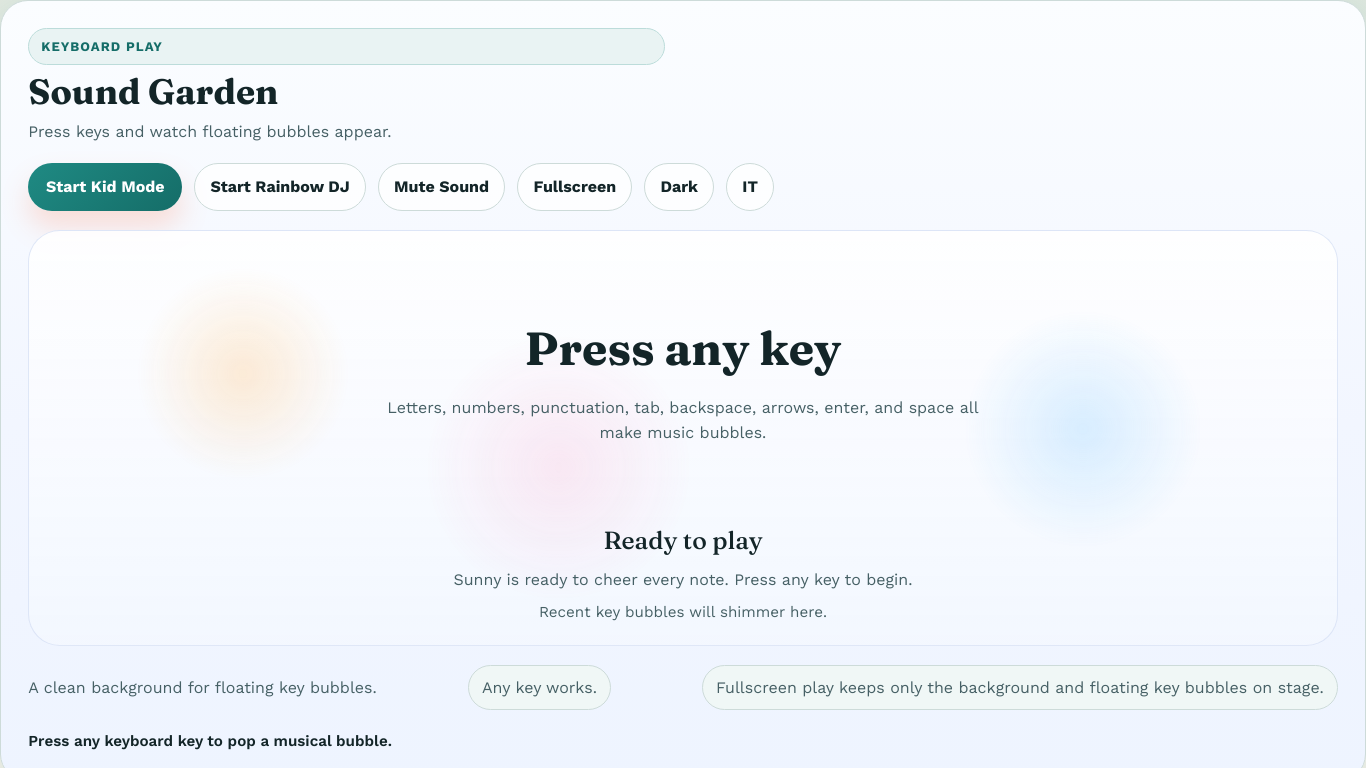
Test case: KeyboardPlayground › enters kid mode and exits only after holding the parent gate
Click the button "Start Kid Mode": coordinates (105, 187) [28,163,182,211]
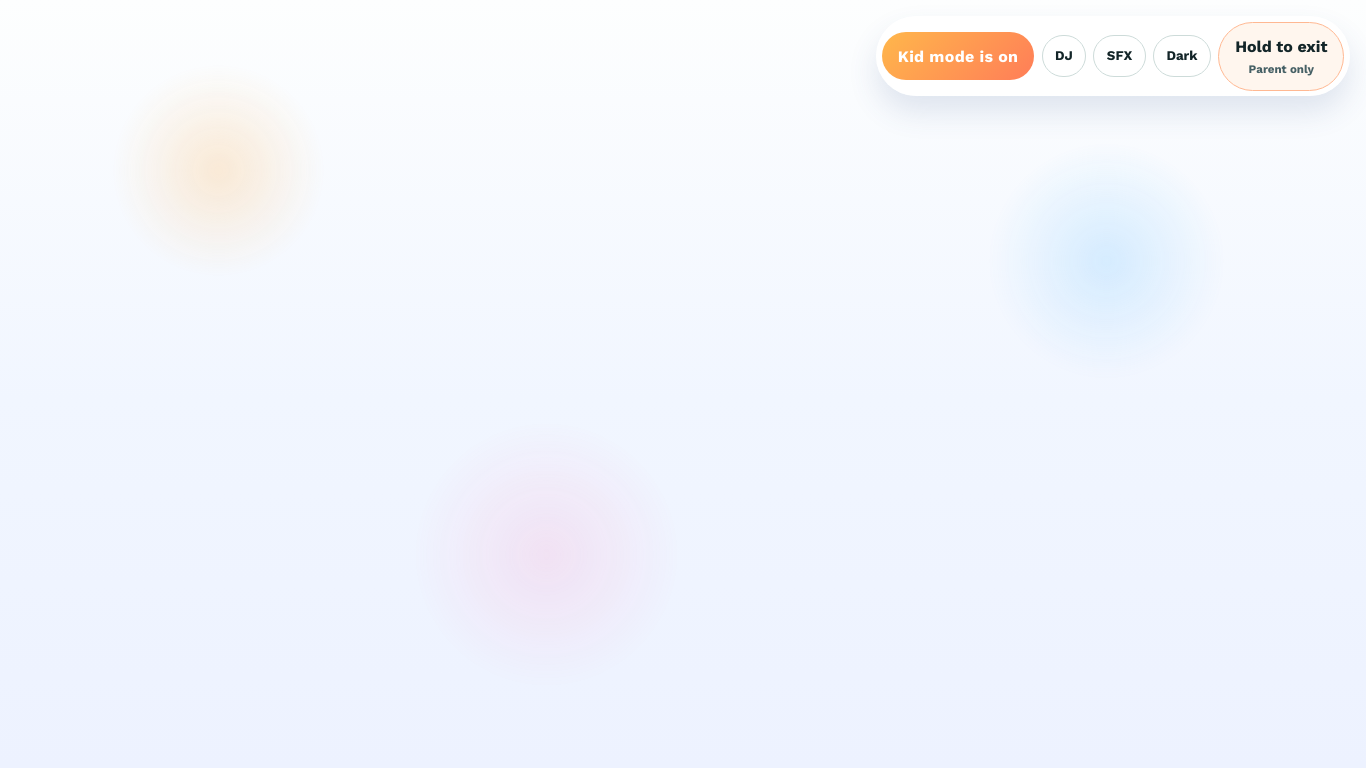
Press the mouse on the button "Hold to exit Parent only": coordinates (1281, 56) [1218,22,1344,91]
Wait 1800 ms
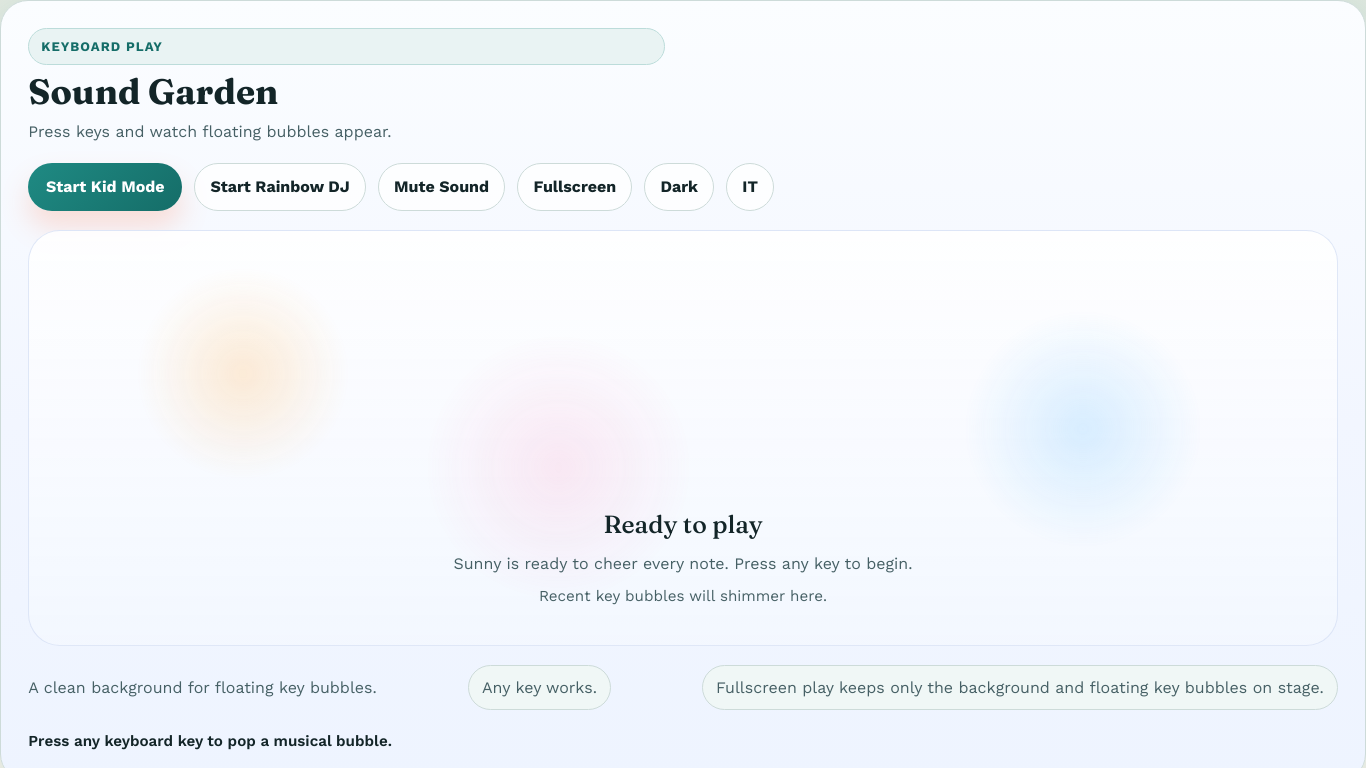
Expected: the button "Start Kid Mode" is shown, [28,163,182,211]
Expected: the text "Press any keyboard key to pop a musical bubble." is shown, [28,732,392,750]
